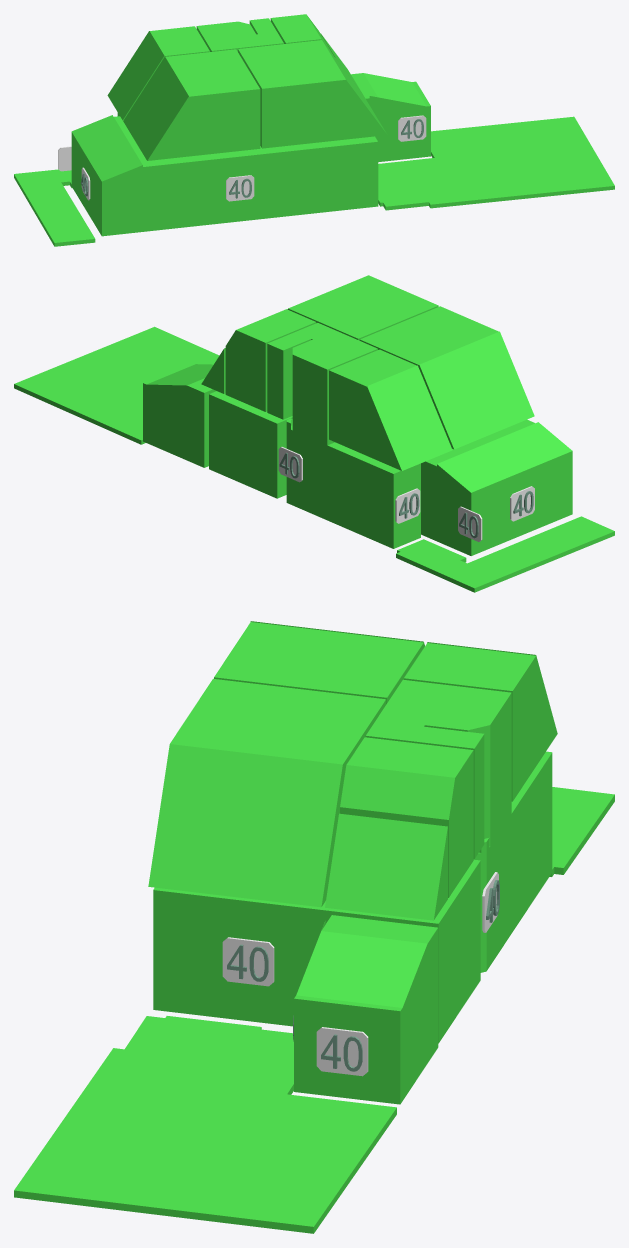
3 views of the same model, one above another, from view 1: azimuth 30°, elevation 25°; view 2: azimuth 150°, elevation 25°; view 3: azimuth 270°, elevation 25° (orthographic). The views are drawn at different scales.
Parts seen in each view (by area): view 1: g_1, g_14, g_8, g_7, g_0, g_5, g_13, g_9, g_10, g_6, g_11, g_32 (+2 smaller); view 2: g_1, g_8, g_9, g_14, g_4, g_13, g_0, g_5, g_7, g_6, g_10, g_11 (+6 smaller); view 3: g_14, g_7, g_0, g_5, g_6, g_8, g_12, g_9, g_10, g_11, g_4, g_2 (+3 smaller).
Boxes of the visible parts, x1=… form: g_1: x1=71, y1=115, x2=295, y2=236; g_14: x1=378, y1=116, x2=614, y2=210; g_8: x1=123, y1=49, x2=260, y2=160; g_7: x1=238, y1=40, x2=387, y2=148; g_0: x1=292, y1=136, x2=378, y2=215; g_5: x1=351, y1=73, x2=430, y2=161; g_13: x1=14, y1=169, x2=95, y2=246; g_9: x1=107, y1=26, x2=209, y2=120; g_10: x1=202, y1=18, x2=283, y2=51; g_6: x1=270, y1=14, x2=333, y2=54; g_11: x1=196, y1=21, x2=255, y2=38; g_32: x1=398, y1=115, x2=426, y2=141; g_1: x1=421, y1=419, x2=572, y2=555; g_8: x1=359, y1=306, x2=534, y2=449; g_9: x1=329, y1=349, x2=452, y2=470; g_14: x1=14, y1=326, x2=219, y2=444; g_4: x1=329, y1=443, x2=420, y2=548; g_13: x1=396, y1=516, x2=614, y2=592; g_0: x1=209, y1=391, x2=292, y2=498; g_5: x1=143, y1=362, x2=216, y2=467; g_7: x1=287, y1=275, x2=438, y2=340; g_6: x1=225, y1=309, x2=316, y2=411; g_10: x1=267, y1=323, x2=377, y2=419; g_11: x1=292, y1=339, x2=347, y2=439; g_14: x1=14, y1=1016, x2=396, y2=1233; g_7: x1=148, y1=678, x2=386, y2=907; g_0: x1=153, y1=859, x2=480, y2=1043; g_5: x1=294, y1=915, x2=438, y2=1104; g_6: x1=340, y1=737, x2=473, y2=897; g_8: x1=214, y1=621, x2=424, y2=703; g_12: x1=325, y1=813, x2=447, y2=920; g_9: x1=404, y1=642, x2=557, y2=801; g_10: x1=365, y1=679, x2=484, y2=859; g_11: x1=424, y1=687, x2=511, y2=837; g_4: x1=511, y1=751, x2=552, y2=930; g_2: x1=474, y1=804, x2=512, y2=972.
Bounding box in the file's own units: 21.6 × 5.36 × 11.7.
